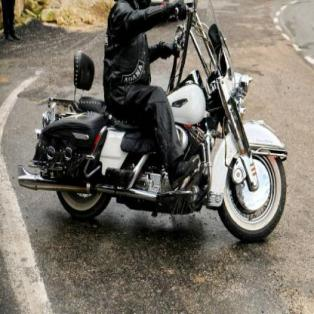Motocicleta: (21, 10, 291, 246)
